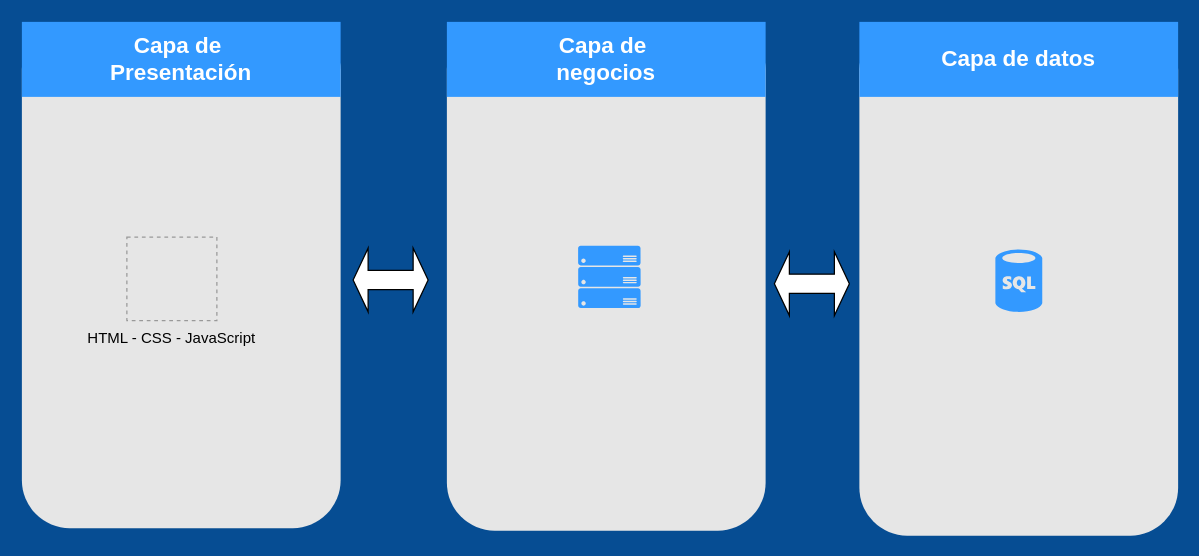
Image size: 1199x556. Some labels were removed from this diagram. Grey dashed boxes stand in for pictures. Here are the shapes that lost their labels. From the top down, the centre of each, then its label:
At [609,276]: "Node JS".
At [1018,280]: "Azure SQL".
